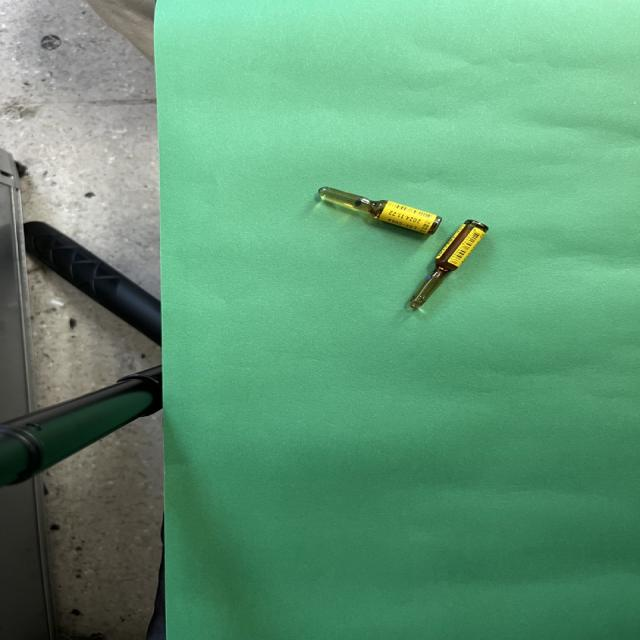Ampoules: (410, 220, 490, 310), (319, 187, 443, 236)
